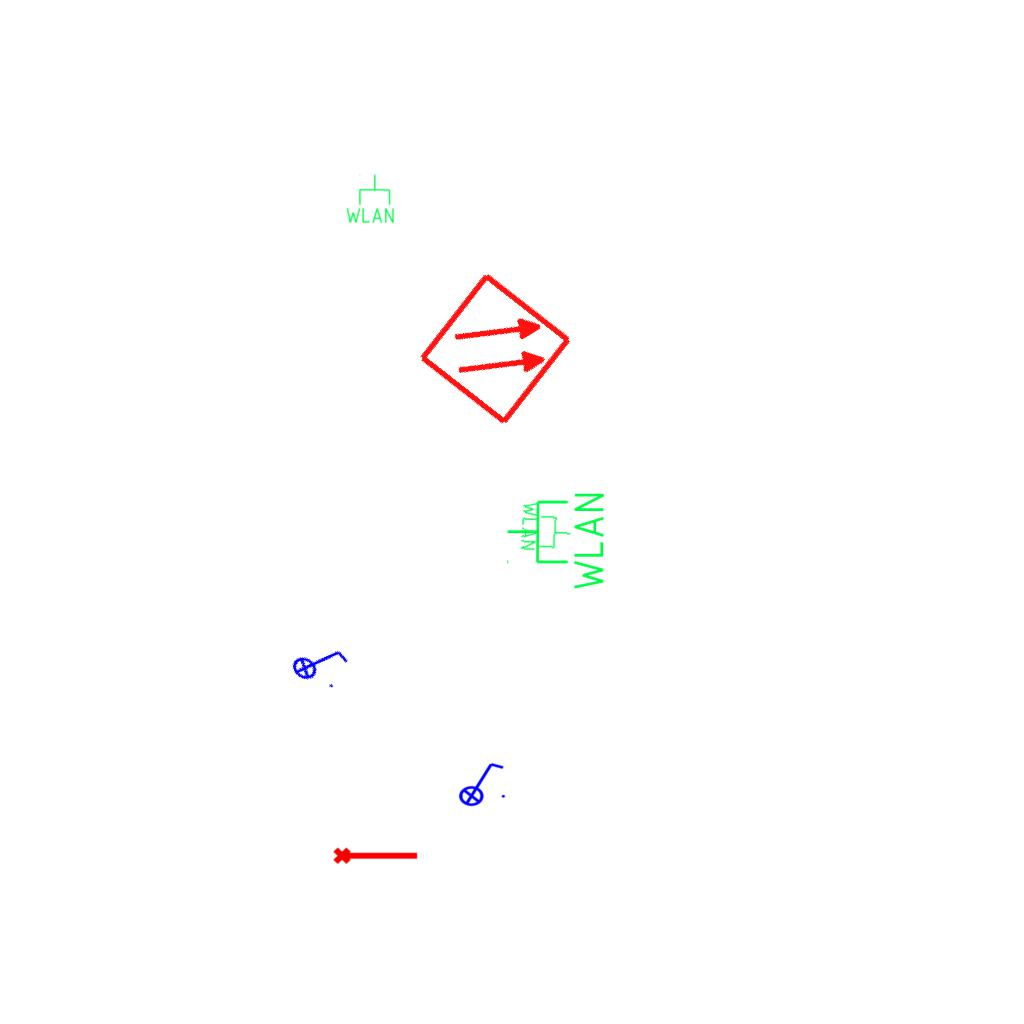ASR_Ansaugoeffnung: (332, 843, 420, 866)
Ausschalter_beleuchtet: (282, 626, 356, 698), (452, 759, 508, 807)
RMO_Rauchmelder_optischer: (416, 269, 575, 428)
WLAN: (504, 489, 608, 594), (518, 499, 574, 555), (344, 173, 396, 225)
